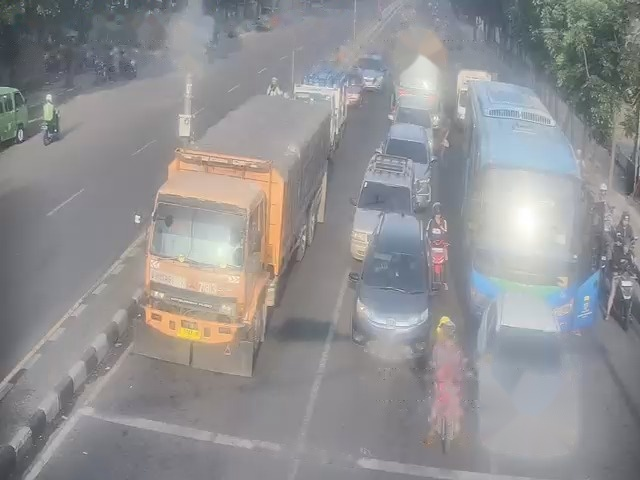Bis: (470, 78, 580, 317)
